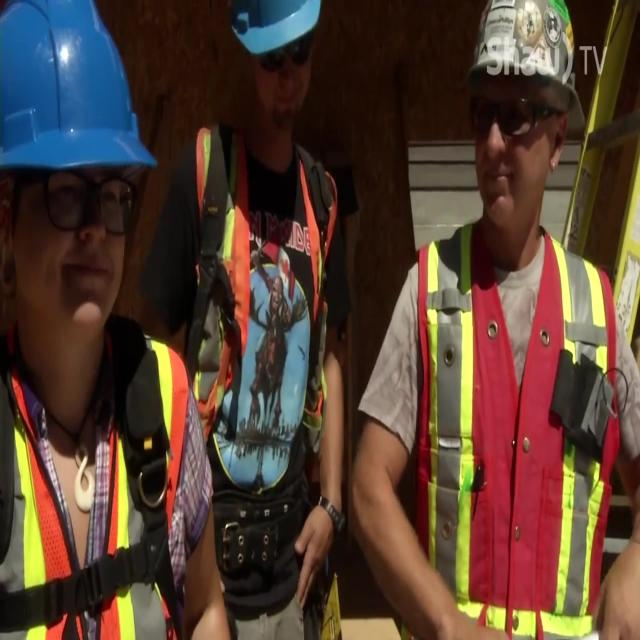Reflective-Jacket: (380, 215, 634, 634), (175, 105, 357, 509), (0, 322, 223, 640)
Safety-Helmet: (0, 5, 161, 203), (456, 0, 586, 119), (223, 0, 329, 68)
